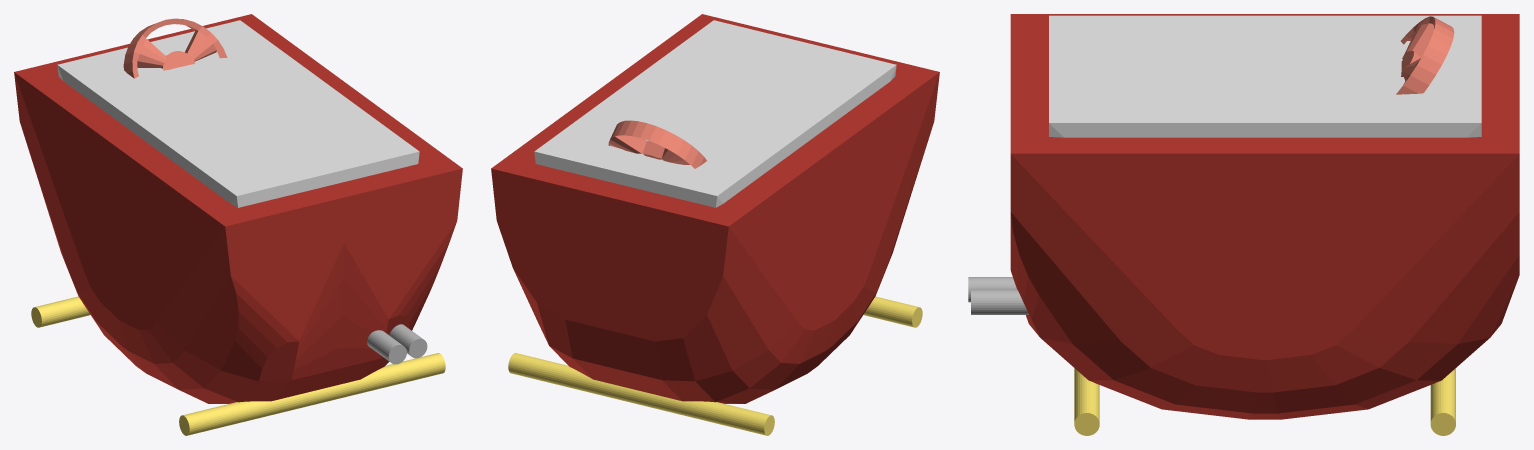
Rendered from CArrinho.fbx.
3 renders of one model, left to right at view 1: azimuth 30°, elevation 25°; view 2: azimuth 150°, elevation 25°; view 3: azimuth 270°, elevation 25°, orthographic. The views are drawn at different scales.
Visible parts, largest first — view 1: Cube.001, Cube, Cylinder.001, Cylinder.009, Cylinder, Cylinder.008, Cylinder.006; view 2: Cube.001, Cube, Cylinder, Cylinder.009, Cylinder.001; view 3: Cube.001, Cube, Cylinder.009, Cylinder.001, Cylinder, Cylinder.006, Cylinder.008.
Boxes of the visible parts, left/top/right/bottom form: Cube.001: left=14, top=14, right=462, bottom=403; Cube: left=57, top=20, right=419, bottom=207; Cylinder.001: left=179, top=353, right=445, bottom=435; Cylinder.009: left=123, top=18, right=227, bottom=78; Cylinder: left=31, top=296, right=90, bottom=327; Cylinder.008: left=367, top=330, right=406, bottom=364; Cylinder.006: left=389, top=324, right=427, bottom=358; Cube.001: left=491, top=14, right=939, bottom=403; Cube: left=534, top=20, right=896, bottom=207; Cylinder: left=508, top=353, right=774, bottom=435; Cylinder.009: left=608, top=120, right=706, bottom=168; Cylinder.001: left=863, top=296, right=922, bottom=327; Cube.001: left=1010, top=14, right=1519, bottom=419; Cube: left=1049, top=15, right=1481, bottom=137; Cylinder.009: left=1396, top=16, right=1454, bottom=94; Cylinder.001: left=1074, top=368, right=1099, bottom=435; Cylinder: left=1430, top=368, right=1455, bottom=435; Cylinder.006: left=971, top=289, right=1028, bottom=314; Cylinder.008: left=968, top=277, right=1016, bottom=302.
Size of the model in its own units: 280 by 312 by 433.
